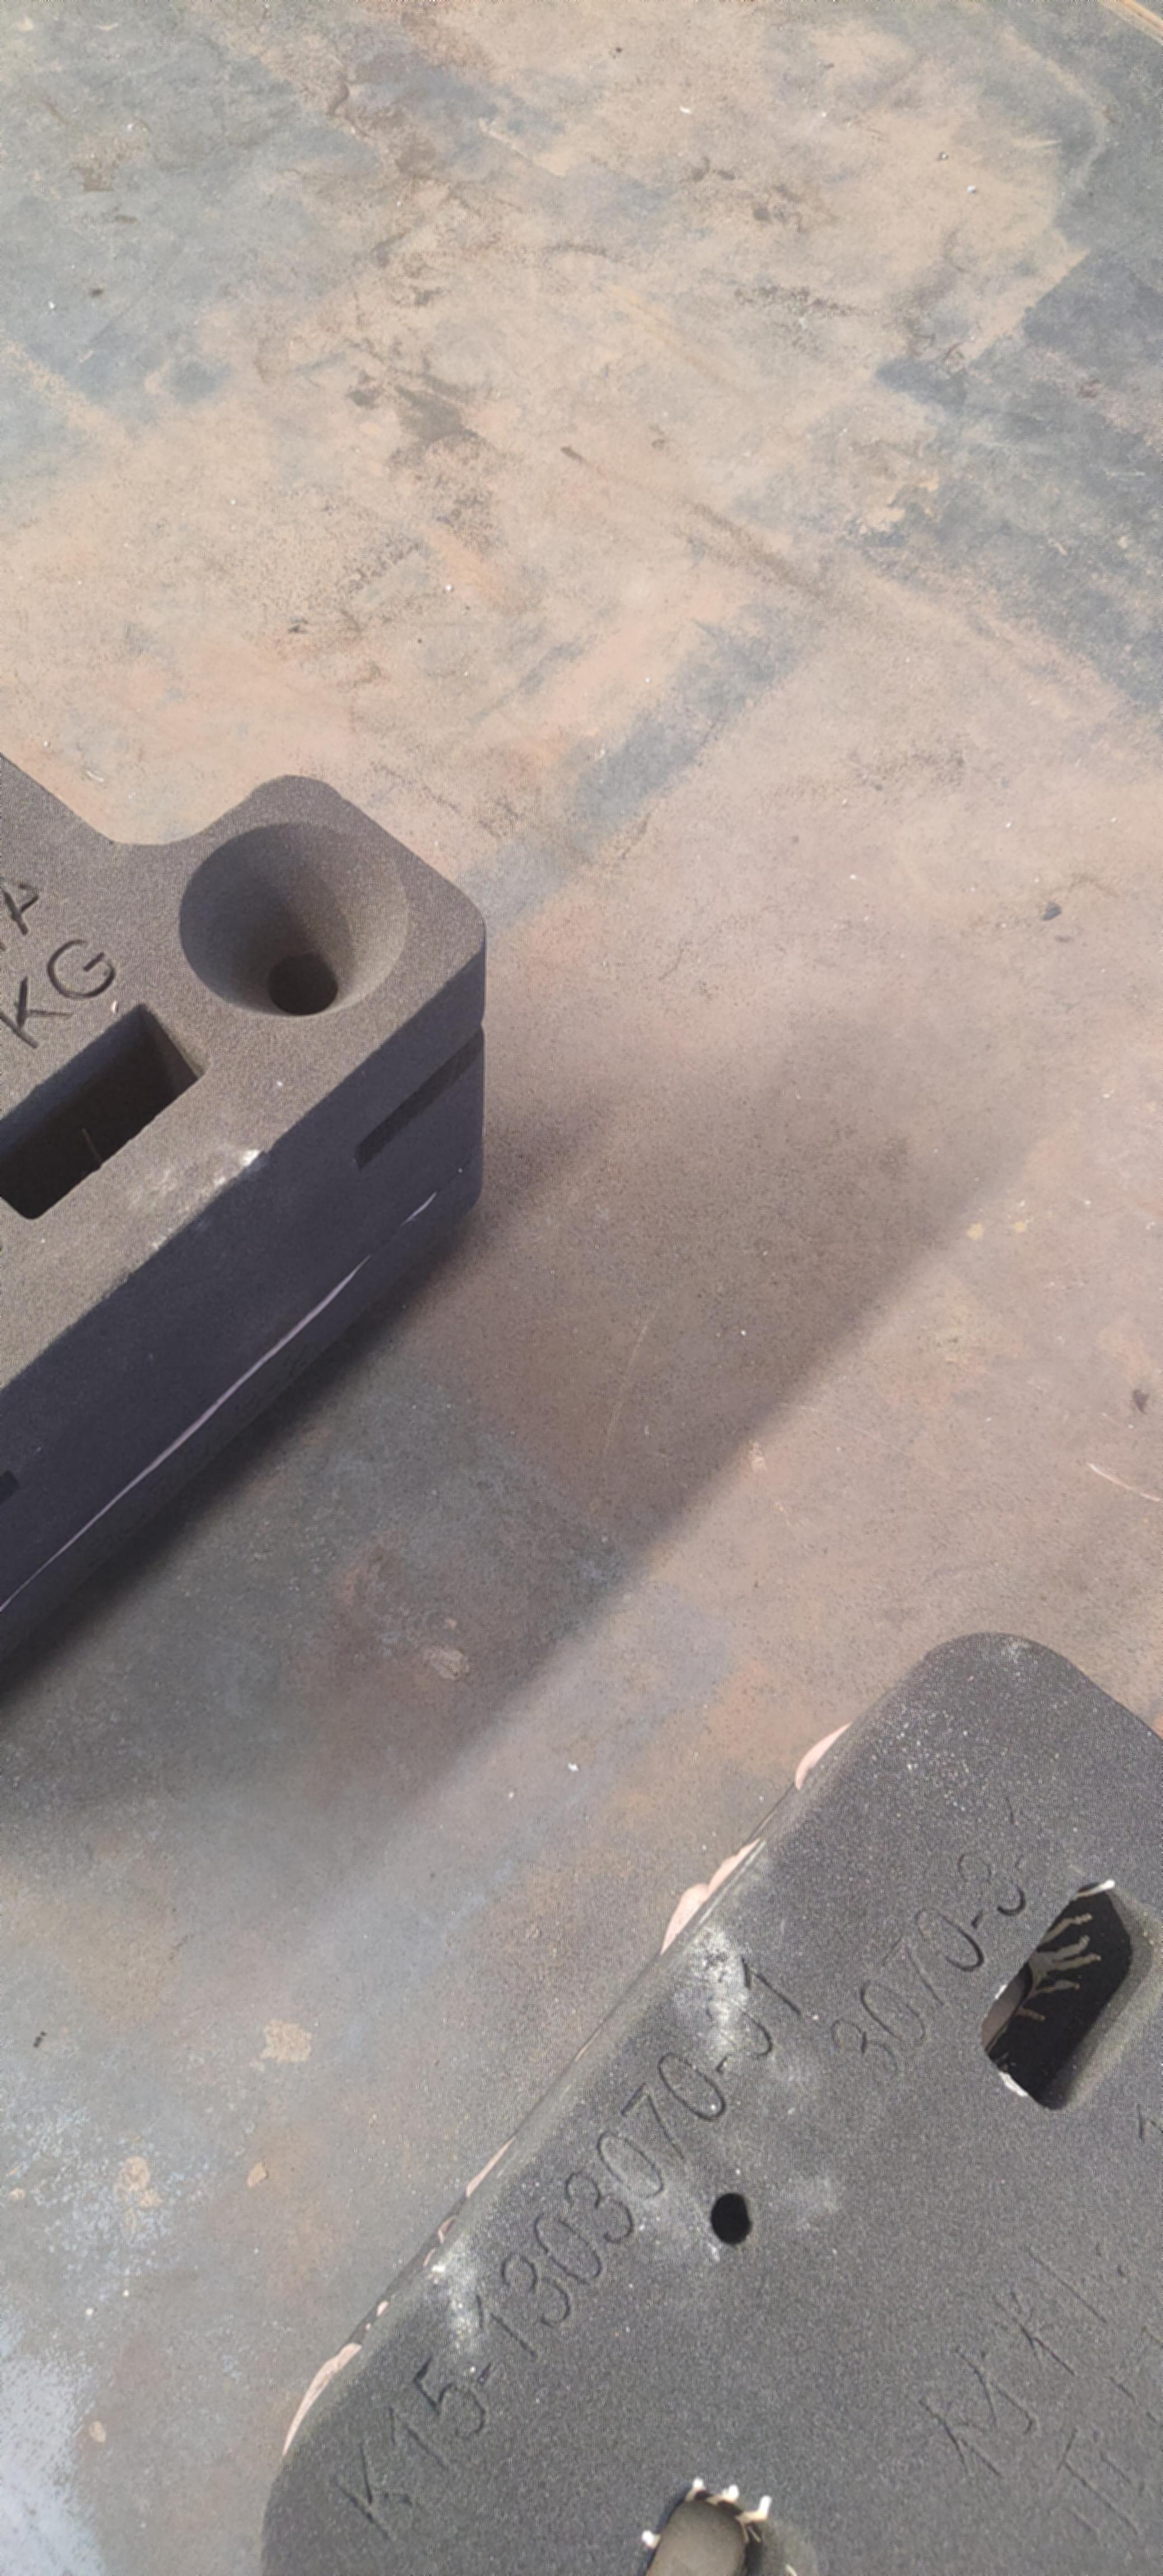pouring hole: (177, 823, 407, 1019)
